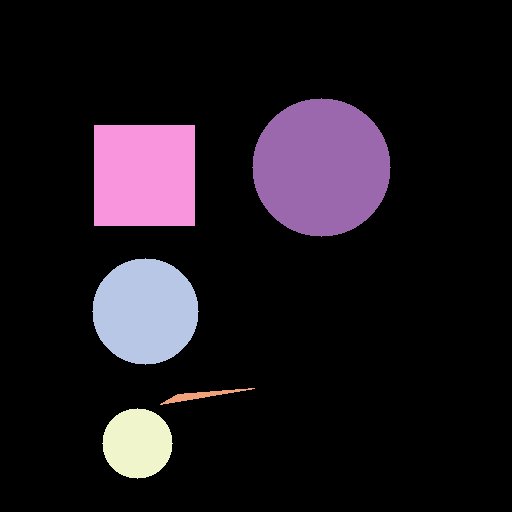circle: (252, 98, 390, 236), (92, 258, 198, 364), (102, 408, 172, 478)
square: (94, 125, 194, 225)
triangle: (160, 388, 254, 404)
